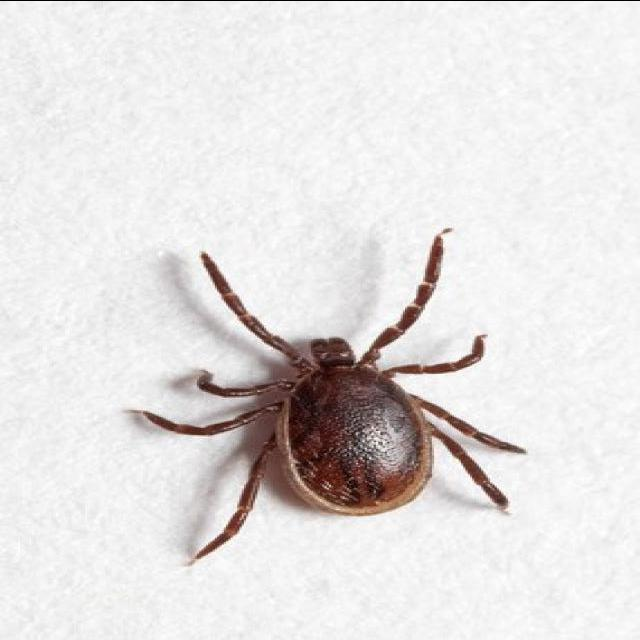Ixodes Ricinus-M: (134, 227, 526, 562)
